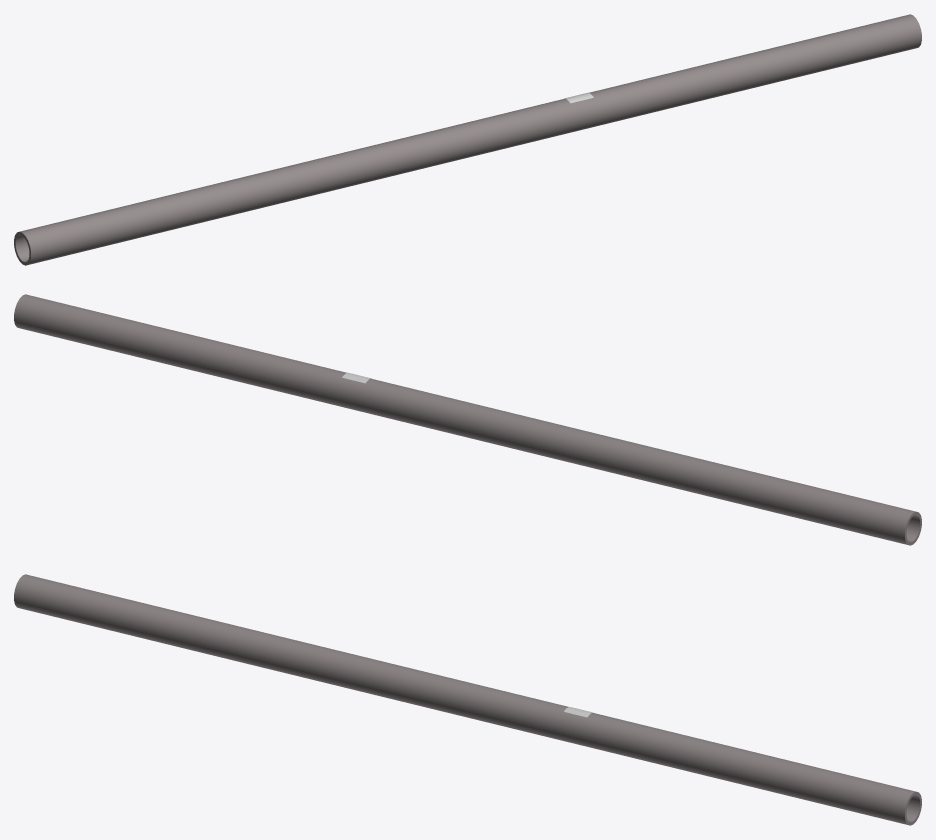
File: GUANZI_OK.fbx
3 renders of one model, top to bottom at view 1: azimuth 30°, elevation 25°; view 2: azimuth 150°, elevation 25°; view 3: azimuth 330°, elevation 25°, orthographic.
Visible parts, largest first — view 1: A, C, B, D_A, D_Q_CU; view 2: A, C, B, D_A, D_Q_CU; view 3: A, C, B, D_A, D_Q_CU.
Boxes of the visible parts, box(x1,y1,x2,y2) form: A: box(688, 14, 921, 101); C: box(243, 123, 476, 210); B: box(465, 68, 699, 155); D_A: box(50, 177, 253, 257); D_Q_CU: box(14, 224, 60, 265); A: box(14, 294, 247, 381); C: box(459, 403, 692, 490); B: box(236, 348, 470, 435); D_A: box(682, 457, 885, 537); D_Q_CU: box(875, 504, 921, 545); A: box(682, 737, 921, 825); C: box(236, 628, 470, 715); B: box(459, 683, 692, 770); D_A: box(43, 581, 247, 661); D_Q_CU: box(14, 574, 54, 614).
Bounding box in the file's own units: 300 × 10.29 × 10.01.
